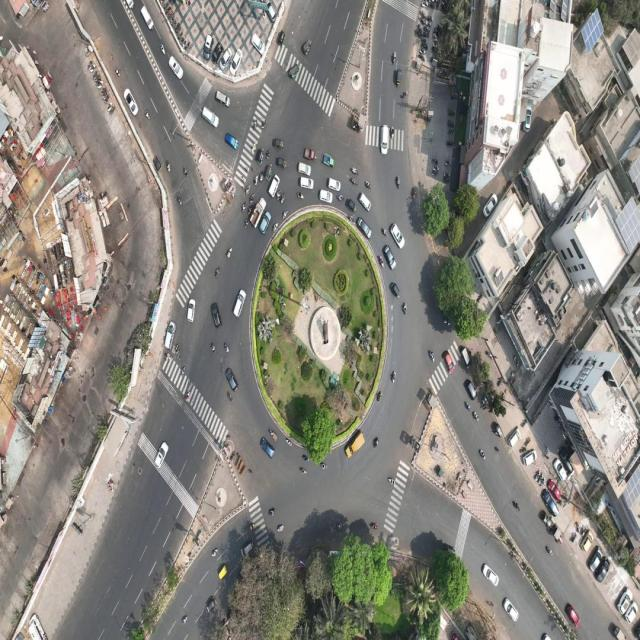3W: (322, 151, 336, 170), (288, 62, 300, 81), (304, 146, 318, 162), (390, 279, 400, 301), (301, 38, 312, 57), (218, 562, 228, 581), (255, 147, 265, 166), (346, 197, 357, 214), (493, 420, 502, 440), (264, 162, 273, 181), (153, 154, 162, 173), (272, 137, 285, 150), (395, 67, 402, 89), (278, 28, 285, 47), (277, 157, 287, 169)
Bus: (345, 430, 366, 460)
Cars: (201, 102, 220, 134), (500, 597, 522, 624), (249, 29, 268, 60), (231, 287, 247, 322), (563, 601, 582, 630), (587, 545, 604, 577), (216, 44, 235, 72), (542, 485, 558, 517), (617, 584, 633, 616), (228, 44, 244, 76), (547, 475, 564, 505), (223, 364, 240, 394), (123, 85, 139, 116), (390, 218, 405, 250), (483, 189, 499, 219), (164, 317, 176, 356), (480, 563, 500, 586), (258, 435, 277, 459), (153, 440, 168, 470), (596, 556, 612, 584), (140, 4, 156, 32), (257, 210, 272, 239), (210, 298, 223, 331), (210, 38, 224, 68), (382, 245, 398, 271), (550, 459, 568, 482), (442, 348, 456, 377), (519, 449, 538, 470), (357, 217, 374, 240), (506, 426, 521, 452), (625, 597, 638, 626), (380, 120, 390, 157), (168, 56, 184, 79), (358, 191, 374, 213), (268, 172, 280, 200), (297, 174, 315, 192), (204, 30, 213, 66), (214, 90, 232, 108), (204, 595, 218, 618), (240, 538, 255, 559), (460, 345, 472, 371), (464, 377, 477, 400), (523, 102, 532, 134), (580, 531, 593, 553), (187, 294, 196, 324), (224, 131, 239, 149), (317, 188, 333, 204), (298, 160, 312, 178), (328, 175, 342, 192)
LCV: (250, 195, 266, 232)
M2W: (267, 425, 278, 442), (428, 348, 437, 365), (372, 435, 382, 449), (209, 340, 217, 356), (387, 474, 396, 488), (185, 388, 191, 406), (568, 530, 577, 542), (535, 467, 541, 485), (391, 369, 397, 387), (479, 446, 486, 461), (472, 409, 479, 424), (226, 390, 234, 403), (352, 165, 360, 178), (166, 158, 172, 175), (538, 472, 544, 489), (540, 476, 546, 493), (320, 461, 330, 471), (335, 522, 345, 532), (545, 545, 554, 556), (223, 340, 230, 354), (226, 246, 233, 260), (573, 520, 580, 534), (277, 522, 284, 535), (261, 117, 268, 130), (463, 399, 470, 412), (144, 109, 151, 122), (114, 66, 121, 79), (180, 364, 186, 379), (215, 265, 221, 280), (296, 191, 305, 201), (348, 212, 354, 227), (445, 119, 455, 128), (370, 521, 379, 531), (376, 389, 382, 404), (403, 299, 408, 317), (212, 546, 218, 560), (182, 164, 188, 178), (241, 200, 248, 212), (244, 183, 250, 197), (265, 146, 271, 160), (252, 118, 258, 132), (337, 192, 344, 204), (365, 179, 372, 191), (395, 176, 401, 190), (160, 42, 166, 56), (299, 465, 307, 475), (282, 210, 290, 220), (259, 169, 264, 185), (350, 176, 358, 186), (513, 501, 521, 511), (178, 34, 186, 44), (166, 9, 174, 19), (174, 343, 180, 356), (513, 355, 519, 368), (269, 507, 276, 518), (272, 222, 279, 233), (381, 227, 388, 238), (182, 614, 188, 626), (176, 194, 182, 206), (244, 217, 250, 229), (253, 174, 259, 186), (251, 142, 257, 154), (181, 37, 187, 49), (285, 438, 292, 448), (176, 30, 183, 40), (173, 21, 180, 31), (303, 452, 309, 463), (249, 193, 255, 204), (276, 188, 281, 201), (281, 192, 286, 205), (392, 50, 396, 66), (379, 256, 384, 268), (445, 140, 453, 147), (446, 127, 454, 134), (169, 15, 177, 22), (164, 5, 171, 13), (248, 523, 254, 532), (247, 206, 253, 215), (430, 169, 439, 175), (443, 160, 452, 166), (391, 125, 394, 142), (185, 41, 190, 51), (448, 109, 455, 116), (442, 177, 450, 183), (432, 158, 438, 165), (444, 172, 450, 178)
